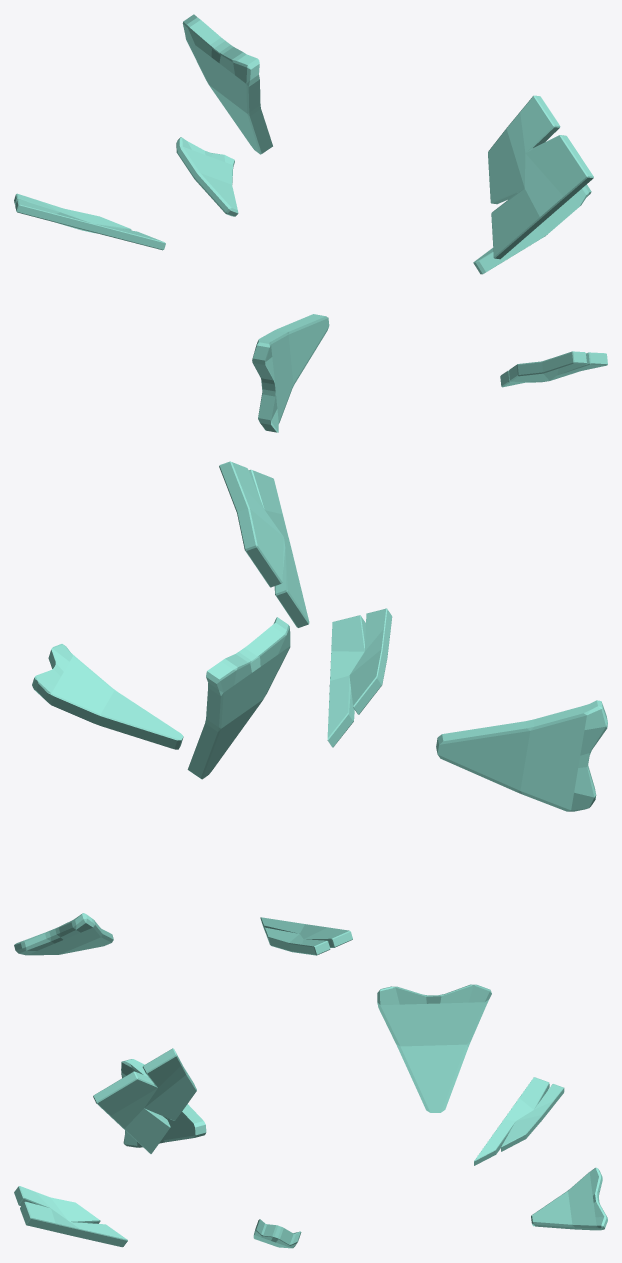
File: Glass Shards in Box.fbx
The picture shows the model from 3 angles, top to bottom: view 1: azimuth 30°, elevation 25°; view 2: azimuth 150°, elevation 25°; view 3: azimuth 270°, elevation 25°; orthographic projection. The views are drawn at different scales.
Visible parts, largest first — view 1: Cube.003; view 2: Cube.003; view 3: Cube.003.
Boxes of the visible parts, x1,y1,x2,y2 form: Cube.003: (14,14,607,432); Cube.003: (14,461,607,955); Cube.003: (14,984,607,1248).
Size of the model in its own units: 296 by 172 by 413.
